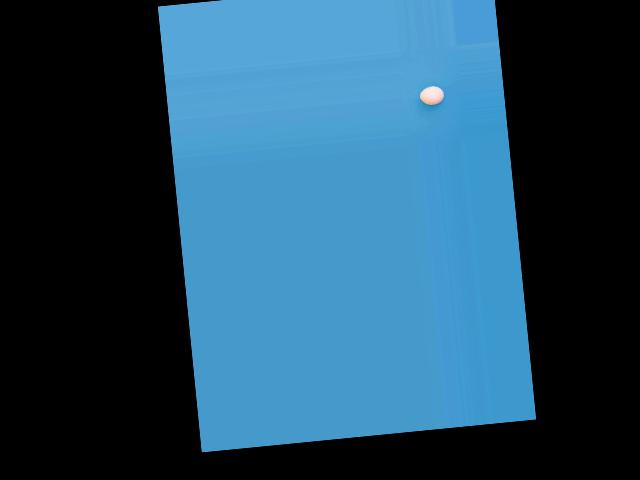egg: (418, 85, 445, 106)
